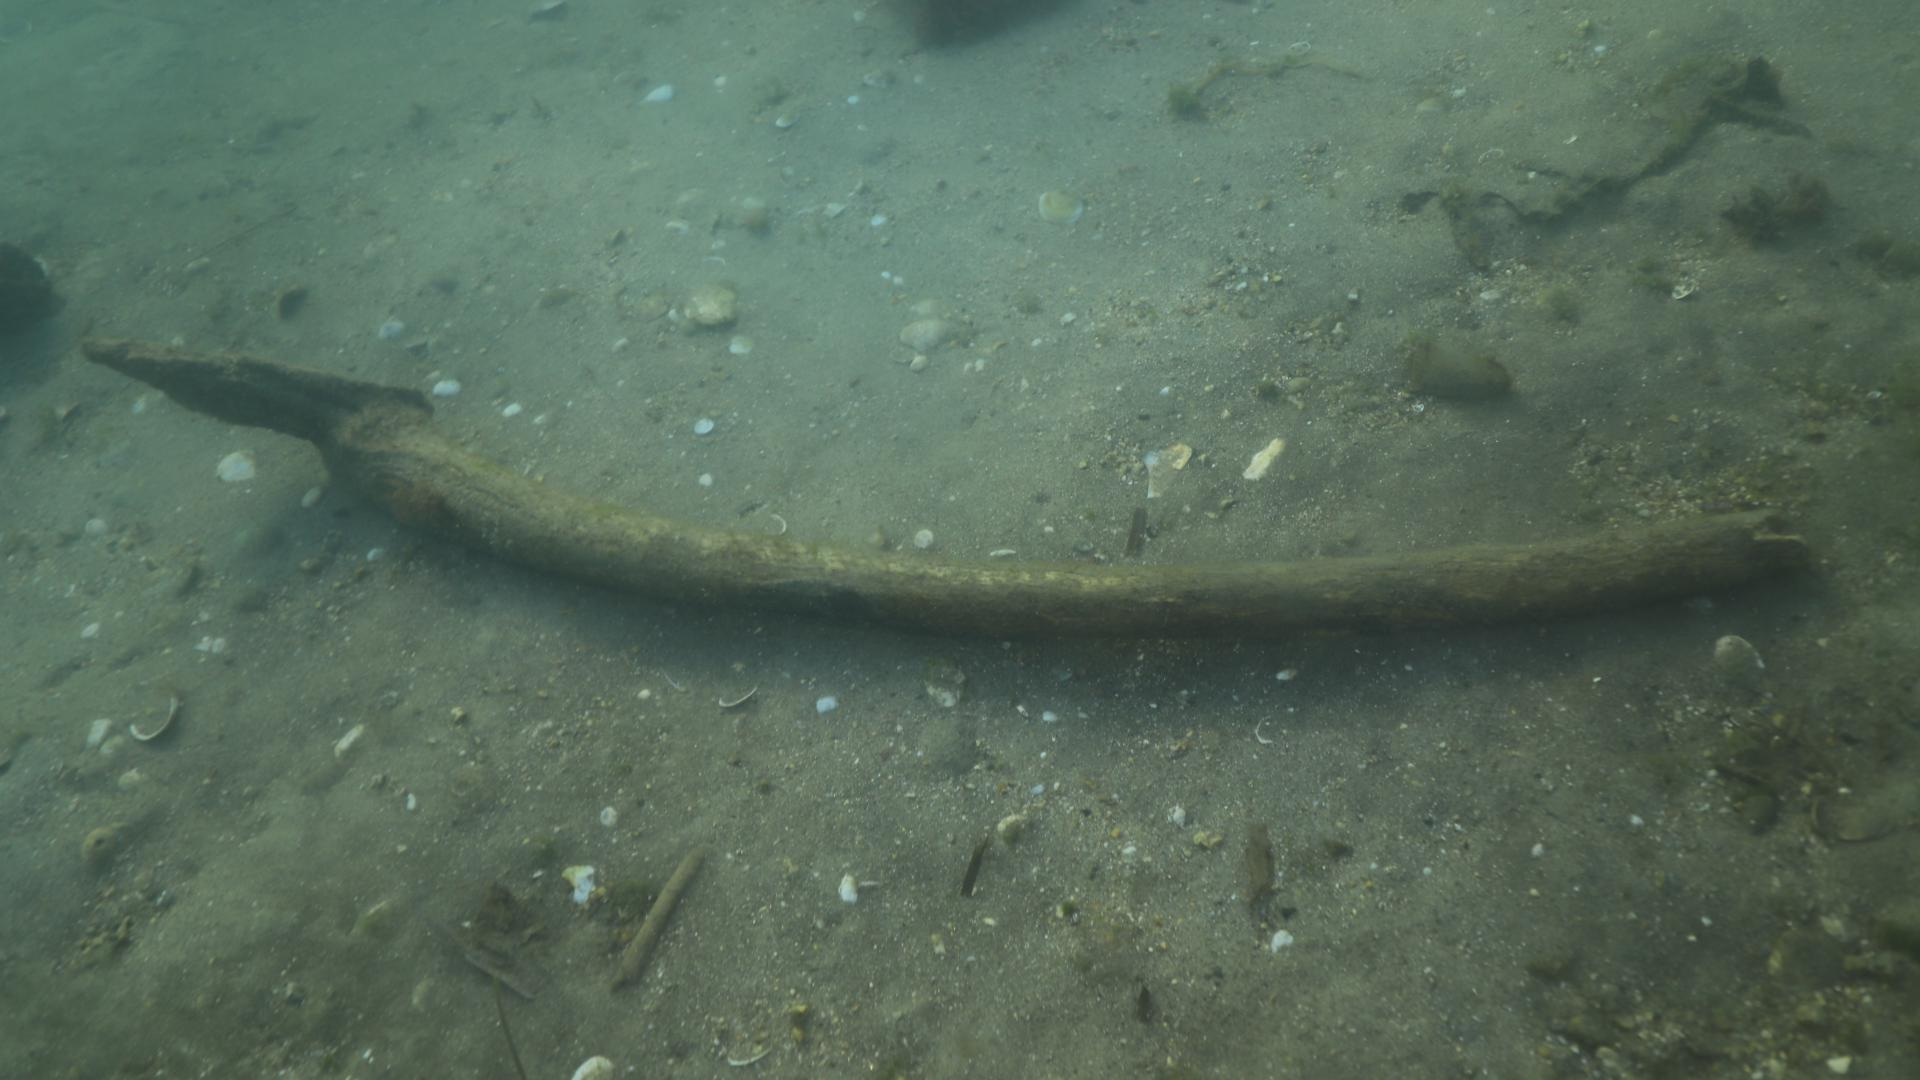wood: (76, 335, 1809, 642)
